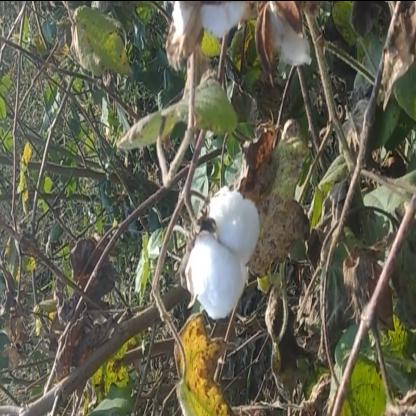cotton_ready: (188, 176, 274, 336)
